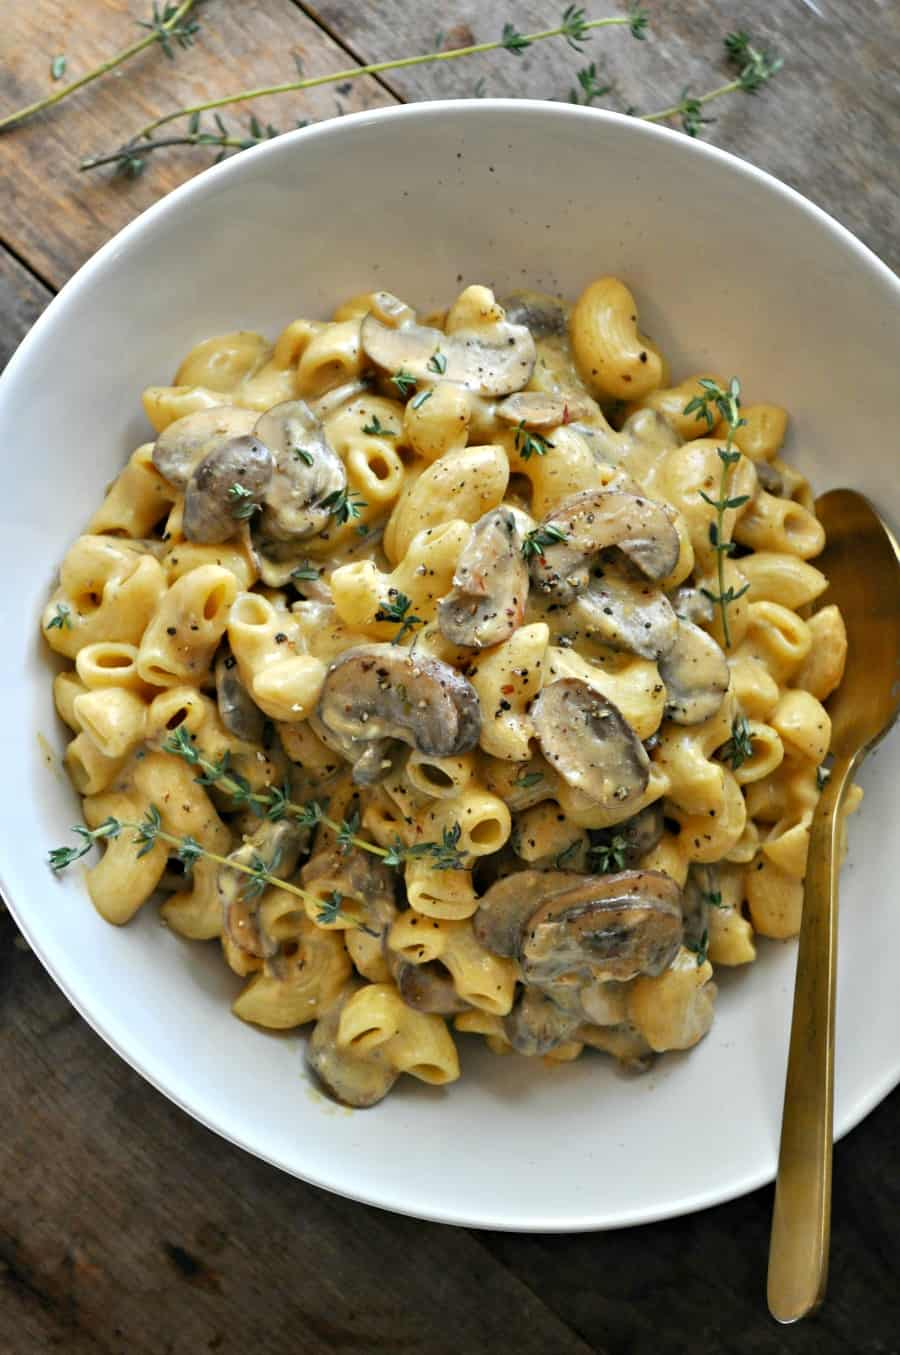cheese: (139, 340, 673, 865)
